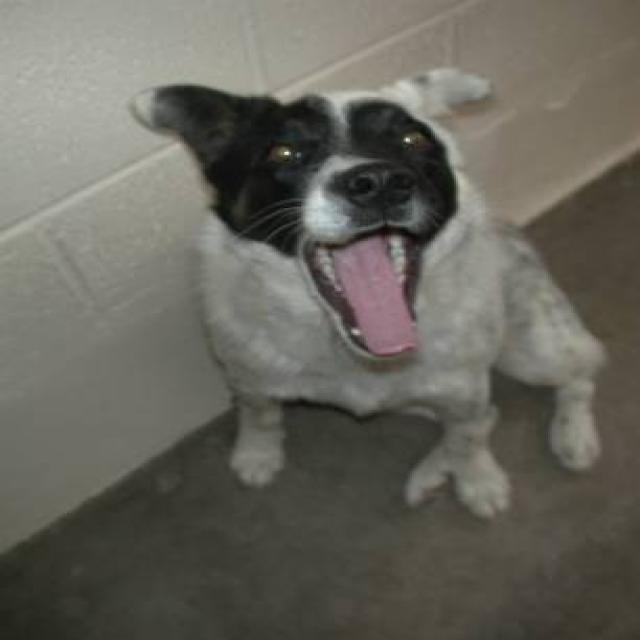dog: (126, 64, 606, 520)
